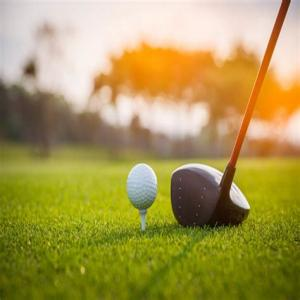Golf: (126, 163, 158, 210)
